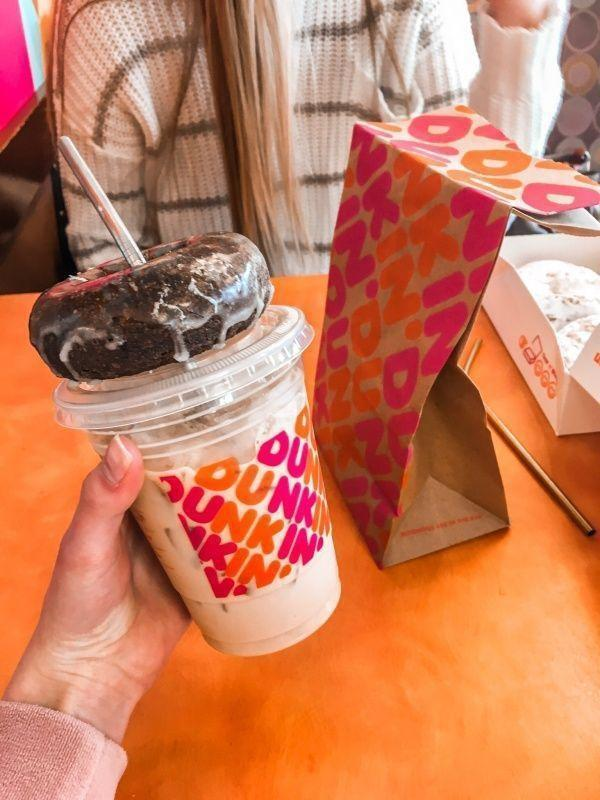cup-disposable: (54, 307, 341, 661)
